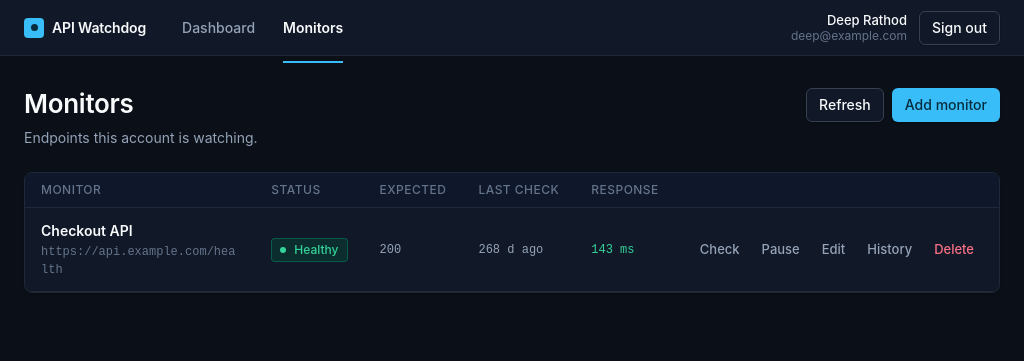
Scenario: manual check › reports a request failure as an error, not as a check result
This screenshot has width=1024, height=361.
expect the text "Checkout API" is shown: met, box [41,222,133,239]
Click the button with aria-label "Check Checkout API now" at (720, 250), box [691,236,749,264]
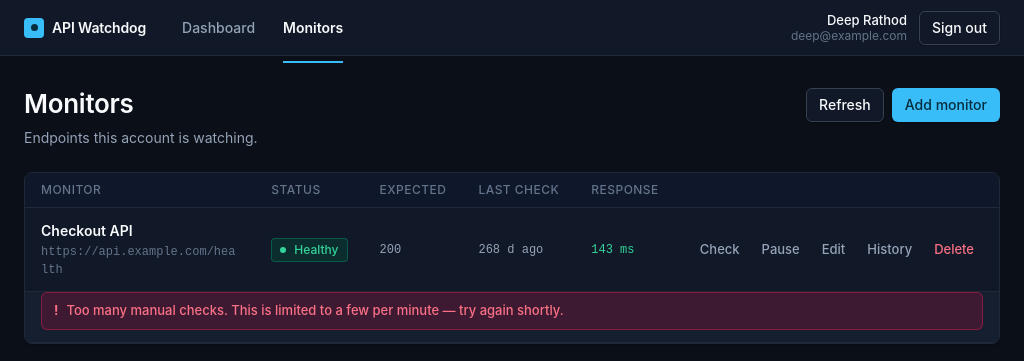
expect the message shows "Too many manual checks": met, box [66,302,564,318]
